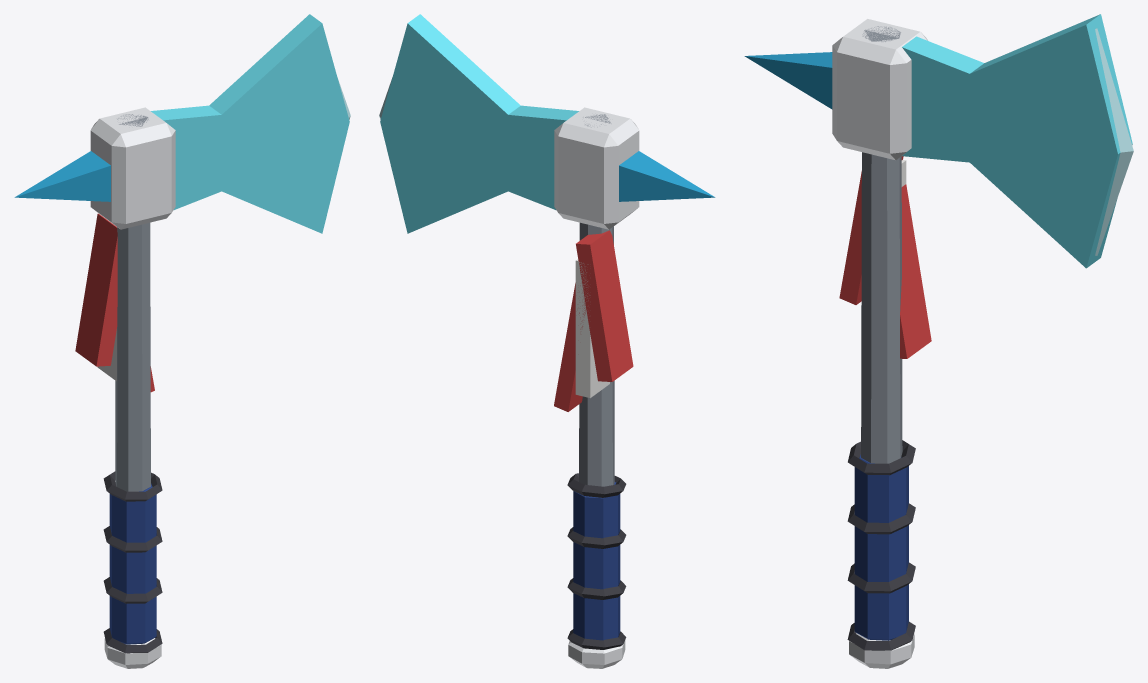
File: DiamondTomahawk.fbx
3 renders of one model, left to right at view 1: azimuth 30°, elevation 25°; view 2: azimuth 150°, elevation 25°; view 3: azimuth 330°, elevation 25°, orthographic. The views are drawn at different scales.
Visible parts, largest first — view 1: DiamondTomahawk; view 2: DiamondTomahawk; view 3: DiamondTomahawk.
Boxes of the visible parts, box(x1,y1,x2,y2) form: DiamondTomahawk: box(14, 14, 350, 668); DiamondTomahawk: box(379, 14, 715, 668); DiamondTomahawk: box(744, 14, 1133, 668).
Bounding box in the file's own units: 1.84 × 3.12 × 0.35.
1 material, 1 textured.
